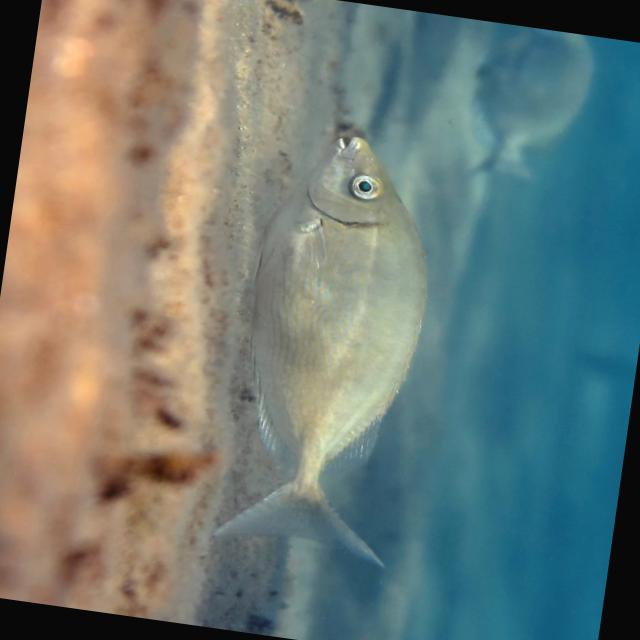Sokar Baligi: (194, 114, 463, 592)
